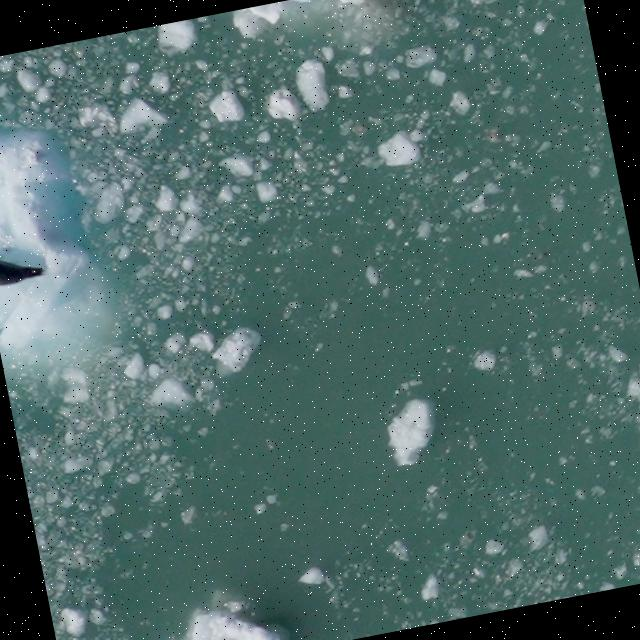seal: (0, 239, 56, 291)
